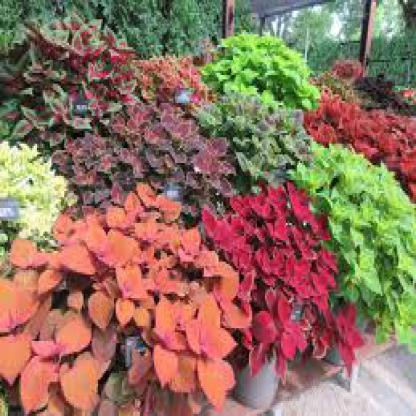Bunga Coleus: (19, 61, 380, 321)
